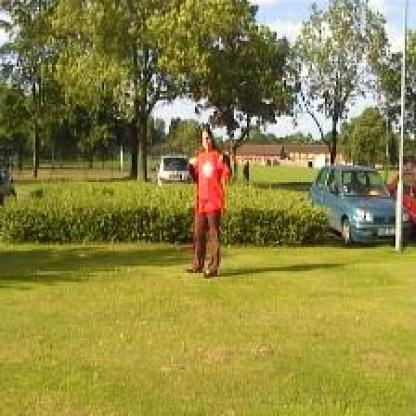other: (186, 142, 236, 212)
